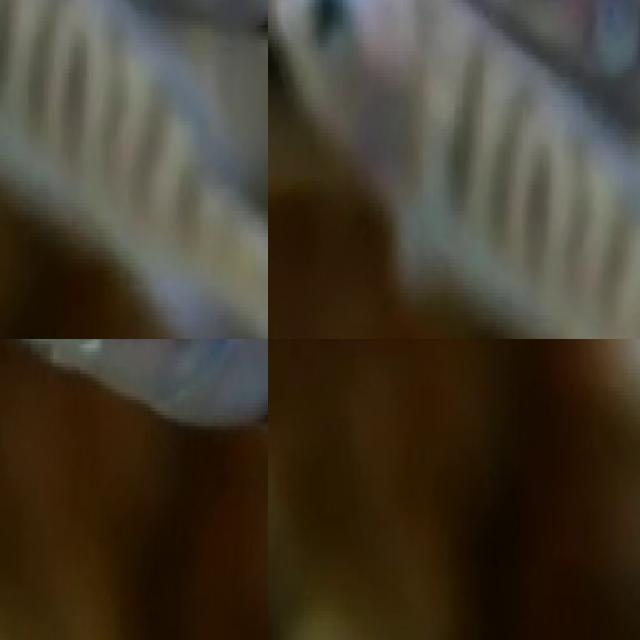fish: (0, 0, 268, 339), (436, 0, 640, 170), (18, 339, 268, 433)
